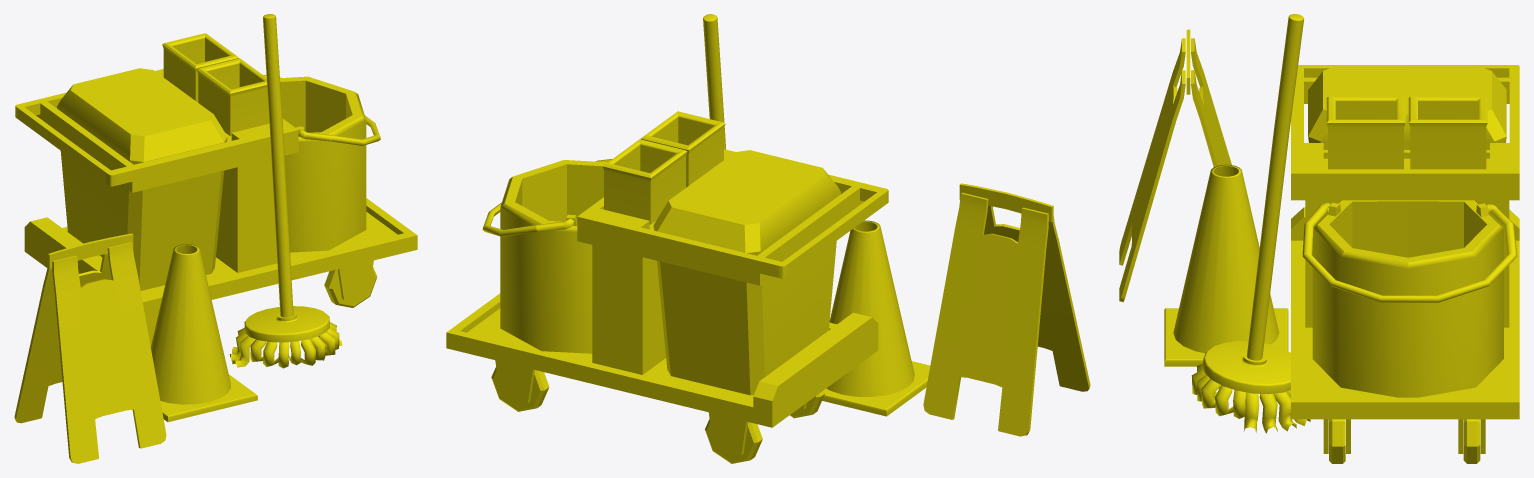
Rendered from JanitorAssets.fbx.
3 renders of one model, left to right at view 1: azimuth 30°, elevation 25°; view 2: azimuth 150°, elevation 25°; view 3: azimuth 270°, elevation 25°, orthographic. The views are drawn at different scales.
Visible parts, largest first — view 1: cart, slipperycautionsign, cone, mop; view 2: cart, slipperycautionsign, cone, mop; view 3: cart, cone, mop, slipperycautionsign.
Boxes of the visible parts, <box> form: cart: <box>15,33,417,346</box>; slipperycautionsign: <box>14,233,166,463</box>; cone: <box>151,244,257,422</box>; mop: <box>229,14,342,368</box>; cart: <box>446,111,888,463</box>; slipperycautionsign: <box>923,183,1090,436</box>; cone: <box>822,220,930,416</box>; mop: <box>703,14,725,149</box>; cart: <box>1291,65,1519,463</box>; cone: <box>1164,164,1288,366</box>; mop: <box>1191,14,1310,433</box>; slipperycautionsign: <box>1119,29,1231,302</box>.
Size of the model in its own units: 192 by 145 by 134.
